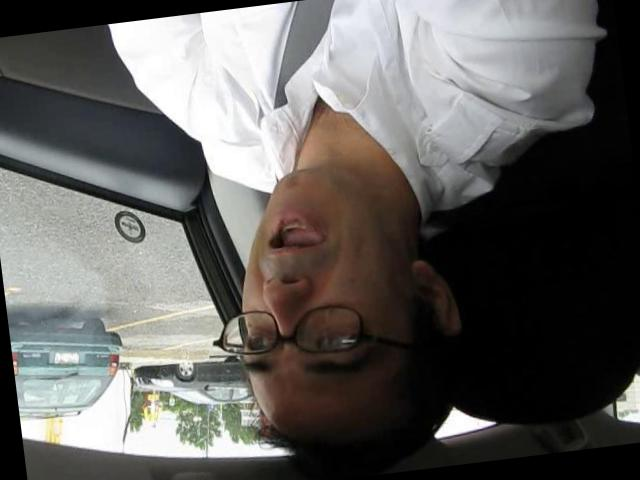eye_open: (297, 318, 362, 361), (240, 319, 280, 358)
face: (222, 156, 414, 402)
mouth_open: (256, 204, 333, 266)
